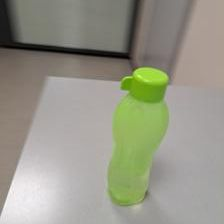bottle: (101, 63, 172, 206)
